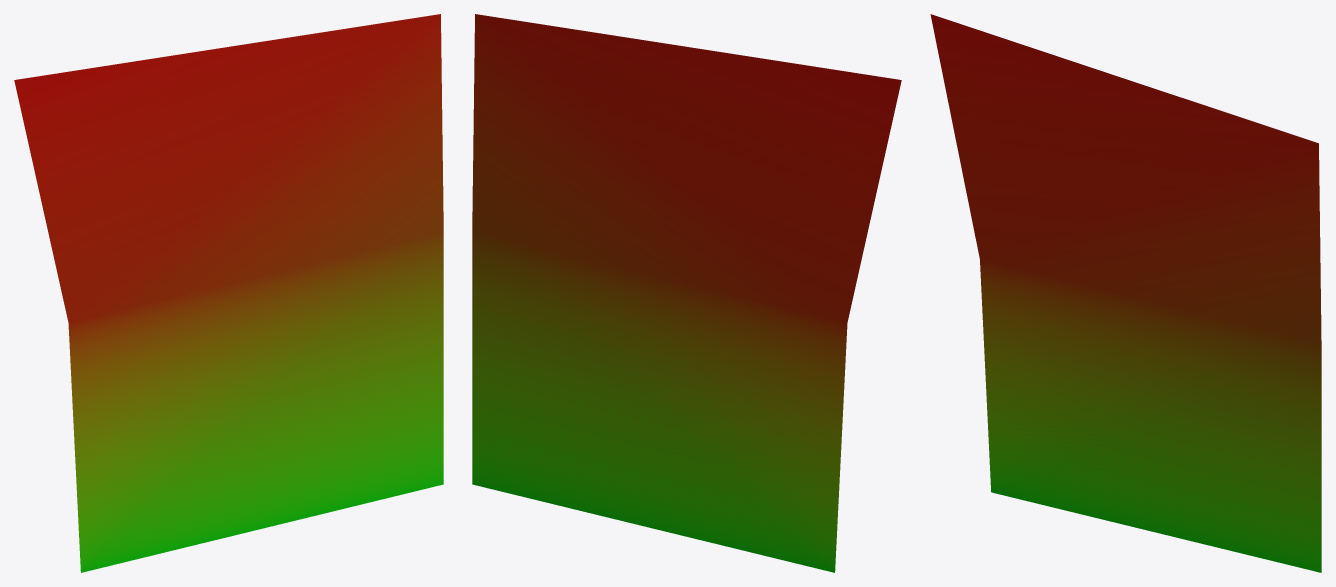
File: Cat Palm_LOD5_Var3_tjejafeia.fbx
3 views of the same model, side by side, from view 1: azimuth 30°, elevation 25°; view 2: azimuth 150°, elevation 25°; view 3: azimuth 330°, elevation 25° (orthographic). The views are drawn at different scales.
Visible parts, largest first — view 1: _da4f_Var3_LOD5; view 2: _da4f_Var3_LOD5; view 3: _da4f_Var3_LOD5.
Boxes of the visible parts, bbox=[...] form: _da4f_Var3_LOD5: bbox=[14, 14, 443, 572]; _da4f_Var3_LOD5: bbox=[472, 14, 901, 572]; _da4f_Var3_LOD5: bbox=[930, 14, 1321, 572].
Size of the model in its own units: 73.17 by 82.89 by 1.43e-05.
